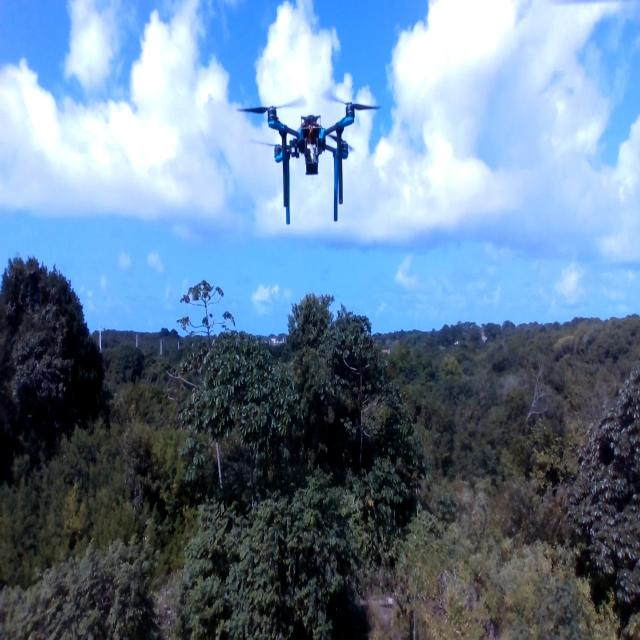-uav-: (230, 79, 394, 231)
